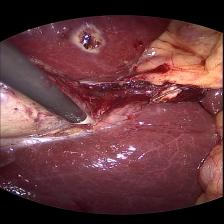Hook: (64, 114, 104, 126)
